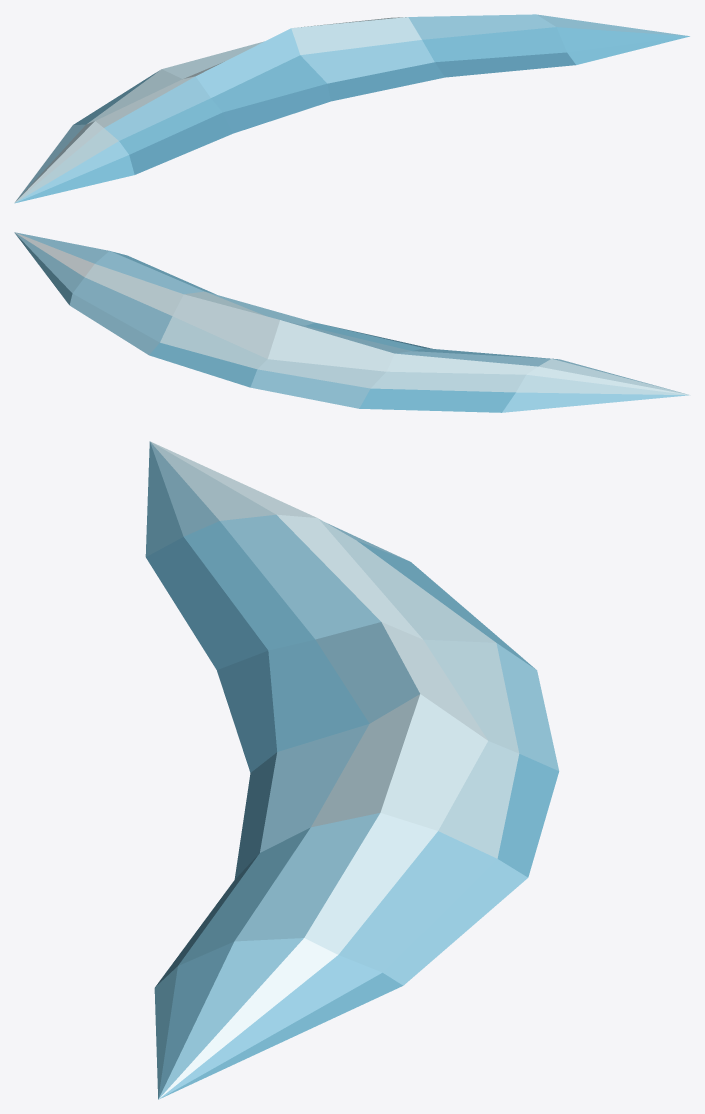
File: wave_0.glb
The picture shows the model from 3 angles, top to bottom: view 1: azimuth 30°, elevation 25°; view 2: azimuth 150°, elevation 25°; view 3: azimuth 270°, elevation 25°; orthographic projection. The views are drawn at different scales.
Parts seen in each view (by area): view 1: wave_0_0; view 2: wave_0_0; view 3: wave_0_0.
Part boxes in pixels (x1,y1,x2,y2): wave_0_0: (14, 14, 689, 203); wave_0_0: (14, 232, 690, 412); wave_0_0: (145, 441, 559, 1099).
Bounding box in the file's own units: 4.26 × 0.2475 × 1.13.
